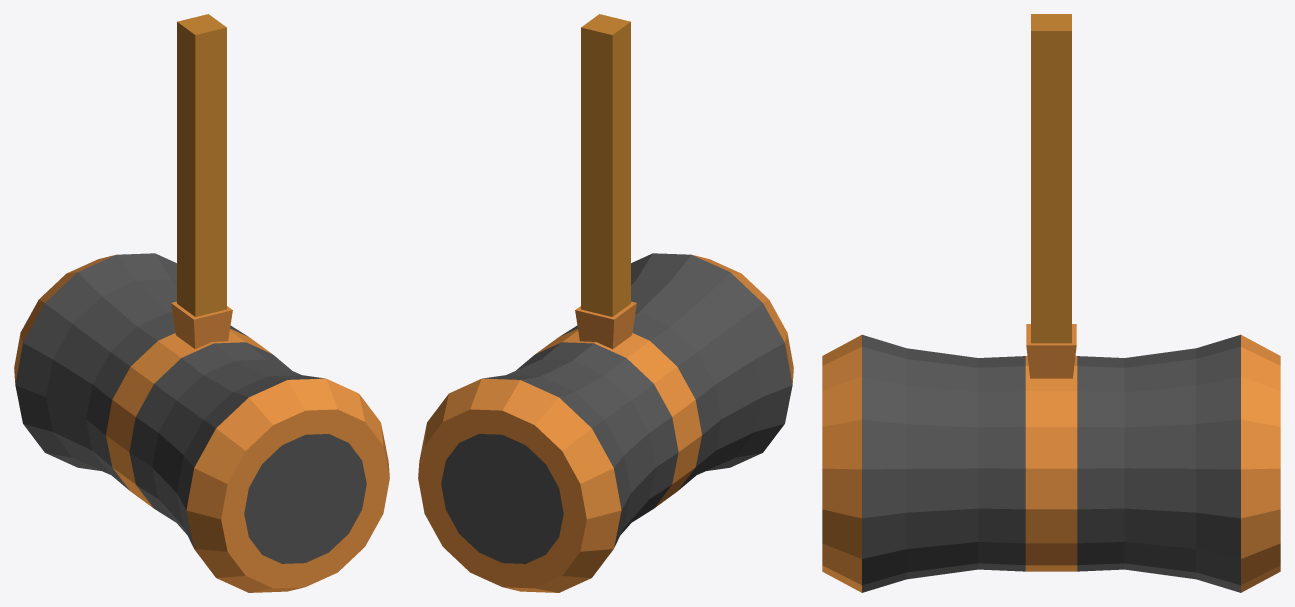
Rendered from hammer.fbx.
3 renders of one model, left to right at view 1: azimuth 30°, elevation 25°; view 2: azimuth 150°, elevation 25°; view 3: azimuth 270°, elevation 25°, orthographic. The views are drawn at different scales.
Visible parts, largest first — view 1: Cylinder.001, Cube; view 2: Cylinder.001, Cube; view 3: Cylinder.001, Cube.
Part boxes in pixels (<box>): Cylinder.001: <box>14,253,389,592</box>; Cube: <box>177,14,226,316</box>; Cylinder.001: <box>418,253,793,592</box>; Cube: <box>581,14,630,316</box>; Cylinder.001: <box>822,324,1280,592</box>; Cube: <box>1031,14,1071,343</box>.
Bounding box in the file's own units: 726 × 1730 × 1287.
